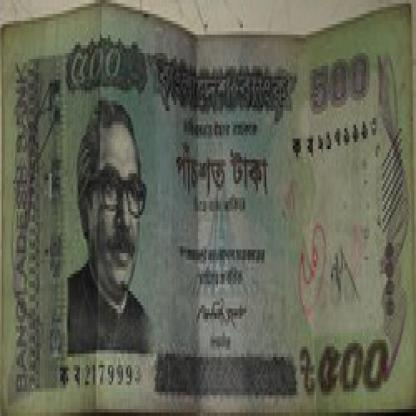500 taka: (308, 55, 384, 125), (60, 31, 136, 90)
currency: (3, 11, 414, 413)
